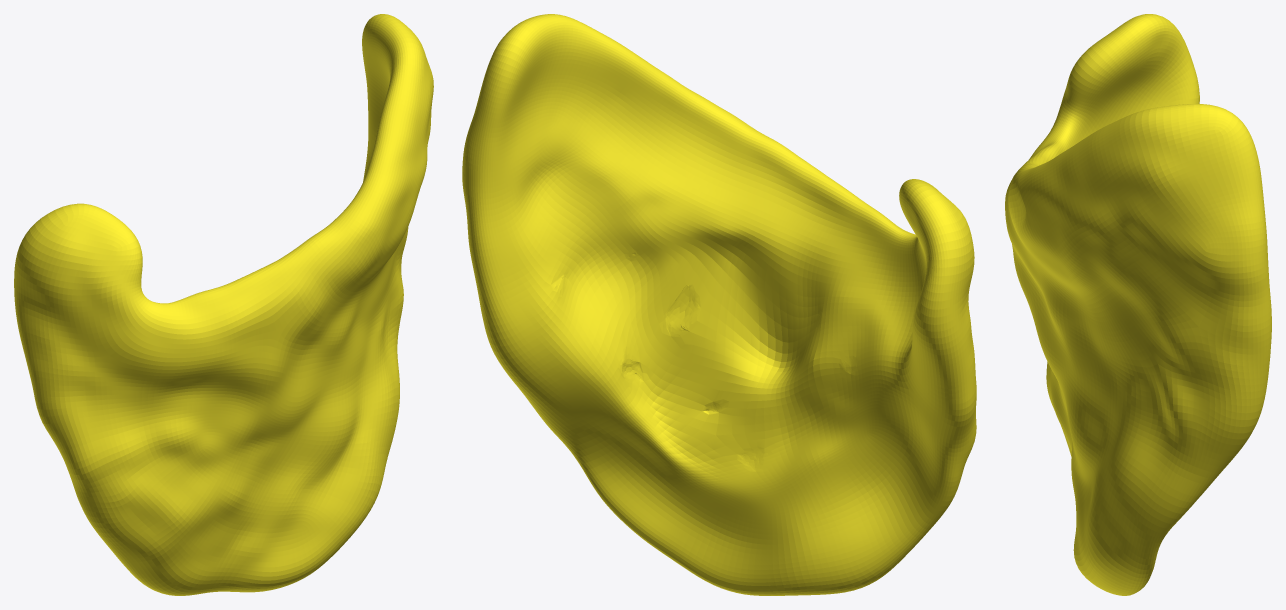
Rendered from omentum-male.glb.
3 views of the same model, side by side, from view 1: azimuth 30°, elevation 25°; view 2: azimuth 150°, elevation 25°; view 3: azimuth 270°, elevation 25° (orthographic). The views are drawn at different scales.
Visible parts, largest first — view 1: VH_M_omentum; view 2: VH_M_omentum; view 3: VH_M_omentum.
Boxes of the visible parts, bbox=[...] form: VH_M_omentum: bbox=[14, 14, 433, 595]; VH_M_omentum: bbox=[462, 14, 976, 595]; VH_M_omentum: bbox=[1005, 14, 1271, 595].
Bounding box in the file's own units: 0.2857 × 0.3265 × 0.1397.
